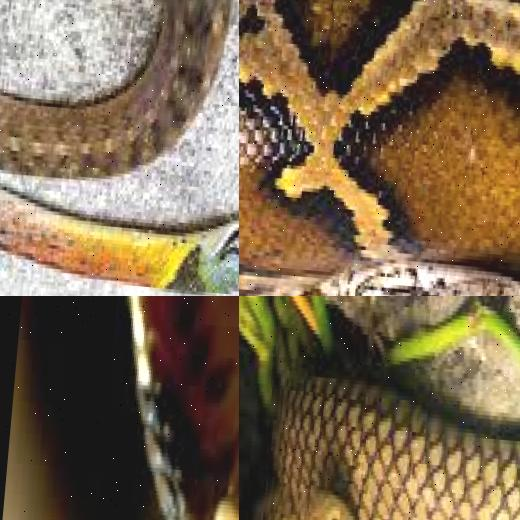snake: (239, 0, 520, 296), (0, 0, 239, 296), (52, 296, 239, 520), (239, 395, 520, 520)
